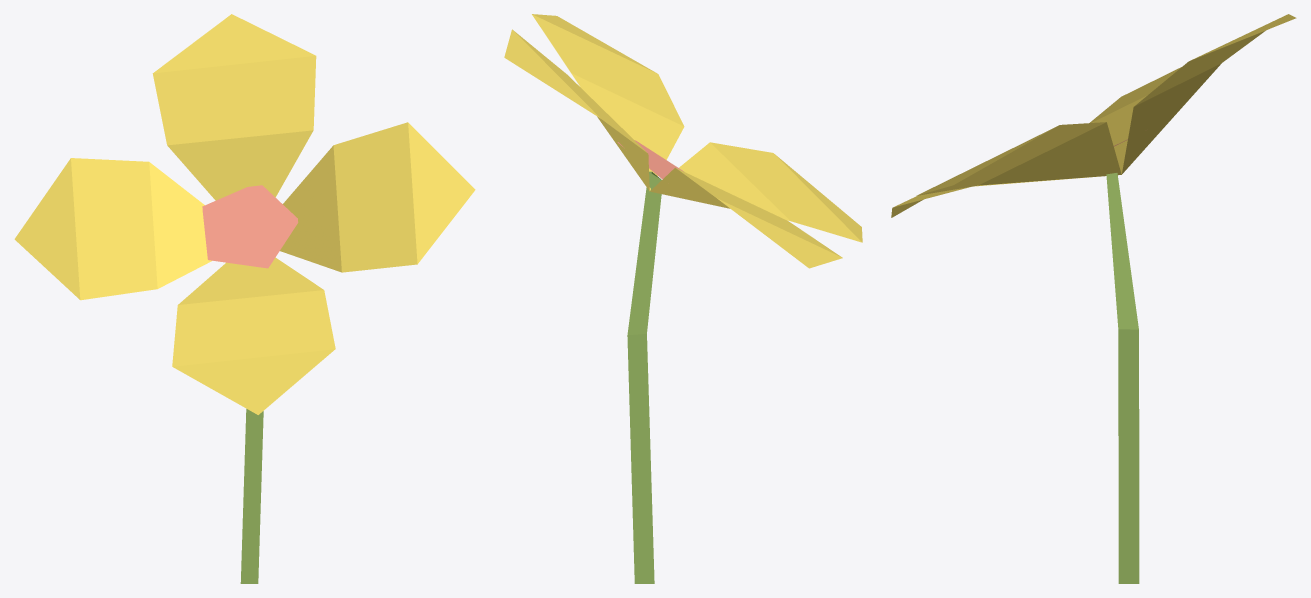
Rendered from Flower_d_OneS_03.fbx.
3 renders of one model, left to right at view 1: azimuth 30°, elevation 25°; view 2: azimuth 150°, elevation 25°; view 3: azimuth 270°, elevation 25°, orthographic. The views are drawn at different scales.
Visible parts, largest first — view 1: Flower_d_OneS_03; view 2: Flower_d_OneS_03; view 3: Flower_d_OneS_03.
Part boxes in pixels (bbox=[...]): Flower_d_OneS_03: bbox=[14, 14, 475, 583]; Flower_d_OneS_03: bbox=[504, 14, 862, 583]; Flower_d_OneS_03: bbox=[891, 14, 1296, 583].
Size of the model in its own units: 0.2182 by 0.3064 by 0.1896.
